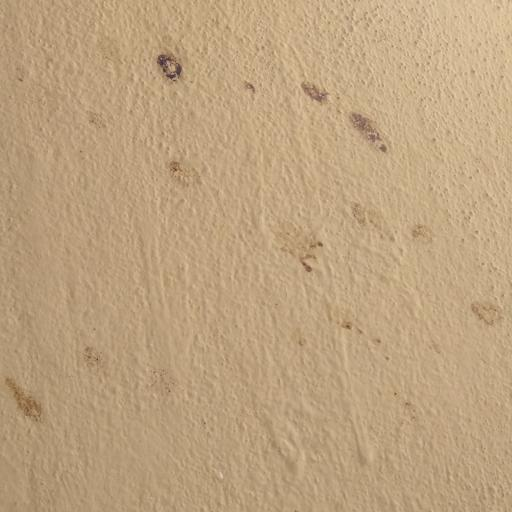stain: (291, 66, 399, 166), (346, 312, 404, 373), (164, 144, 219, 206), (349, 196, 407, 249), (278, 216, 334, 269), (147, 44, 205, 95), (142, 359, 187, 417), (0, 379, 52, 424), (466, 286, 511, 327), (75, 92, 112, 126), (411, 212, 437, 252), (82, 346, 113, 378), (289, 320, 316, 354), (79, 324, 104, 349)
